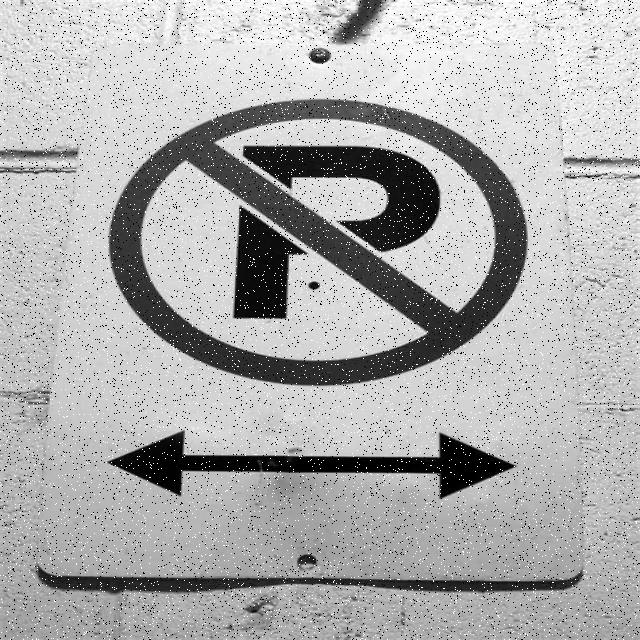No_parking: (106, 99, 534, 388)
